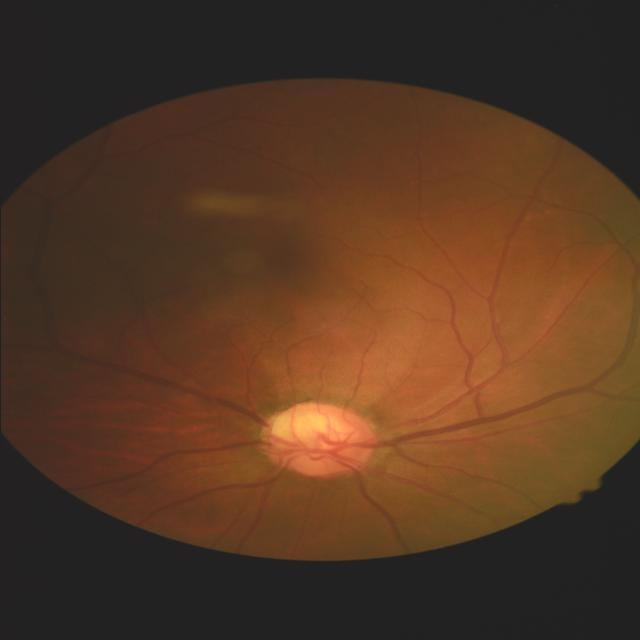cup: (270, 413, 352, 459)
disk: (260, 401, 376, 479)
